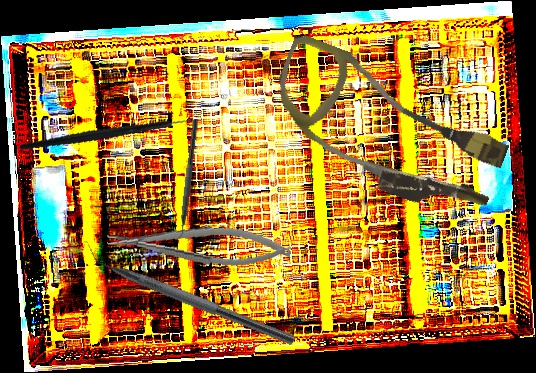Cannula: (254, 32, 521, 227)
Chopper: (75, 237, 303, 347), (19, 75, 198, 184), (171, 117, 199, 247)
Needle Holder: (105, 214, 293, 274)
